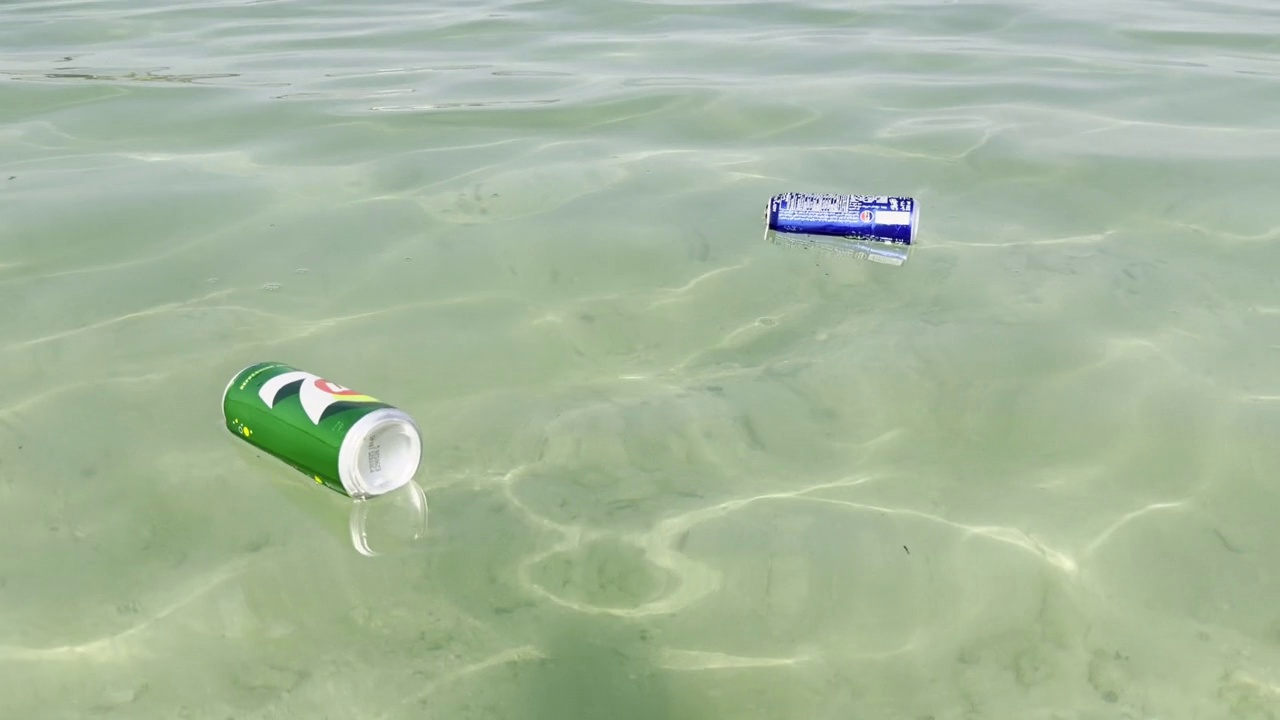debris: (210, 345, 432, 506), (759, 186, 923, 256)
